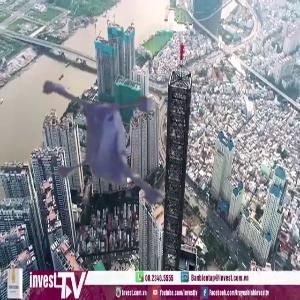drone: (38, 62, 220, 244)
